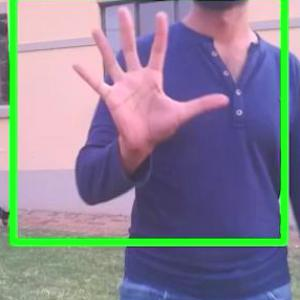follow_hand: (67, 2, 231, 156)
